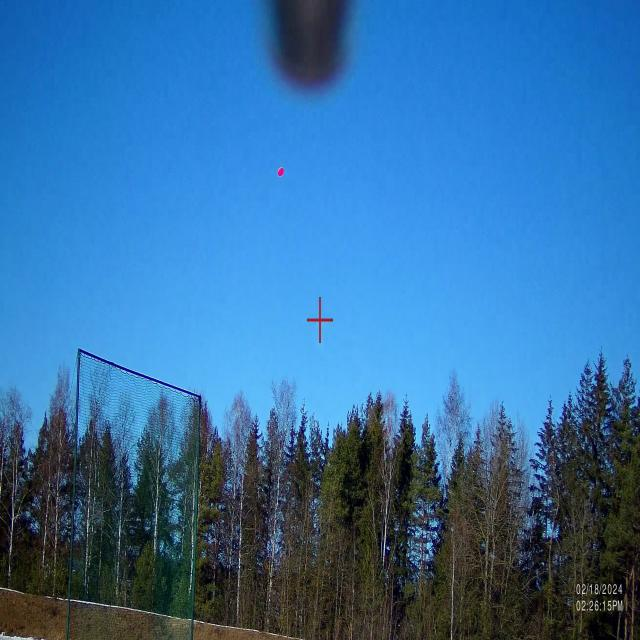entire: (272, 158, 287, 186)
